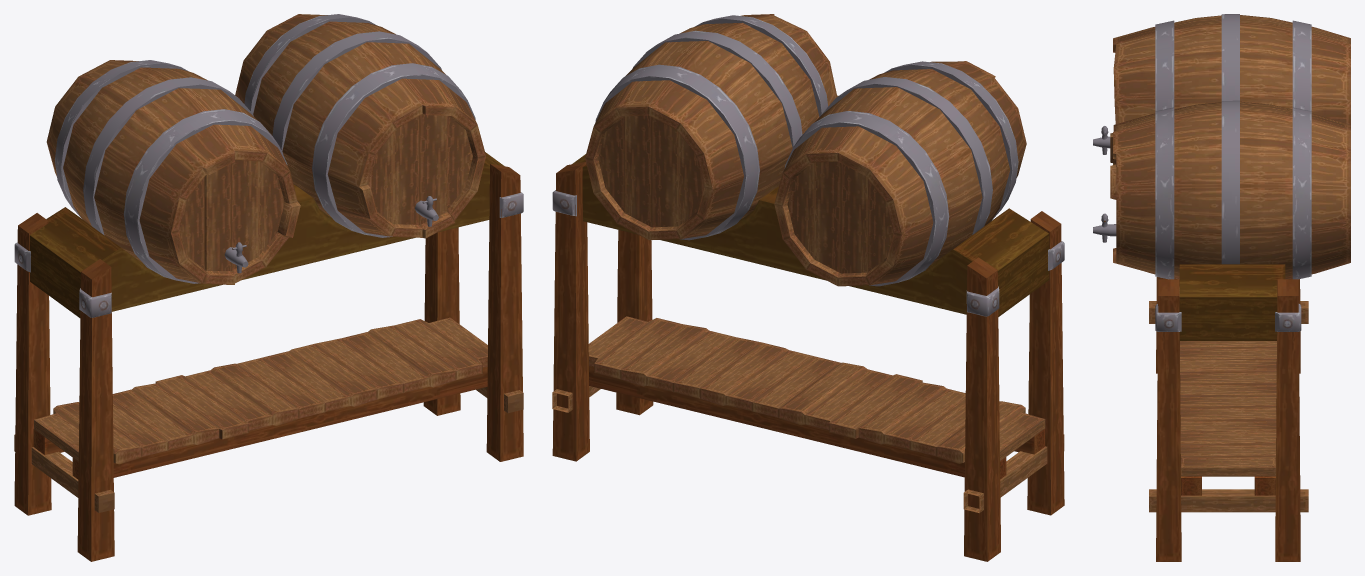
File: Barrel Holder.glb
3 views of the same model, side by side, from view 1: azimuth 30°, elevation 25°; view 2: azimuth 150°, elevation 25°; view 3: azimuth 270°, elevation 25° (orthographic). The views are drawn at different scales.
Visible parts, largest first — view 1: Barrel_Holder; view 2: Barrel_Holder; view 3: Barrel_Holder.
Part boxes in pixels (left/top/right/bottom): Barrel_Holder: left=14, top=14, right=523, bottom=561; Barrel_Holder: left=552, top=14, right=1064, bottom=561; Barrel_Holder: left=1093, top=14, right=1350, bottom=561.
Size of the model in its own units: 1.36 by 1.26 by 0.741.
2 materials, 2 textured.
